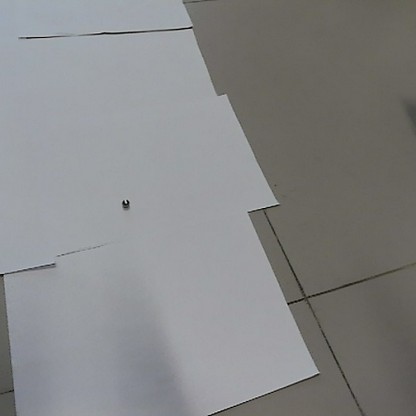ironball: (118, 198, 132, 207)
